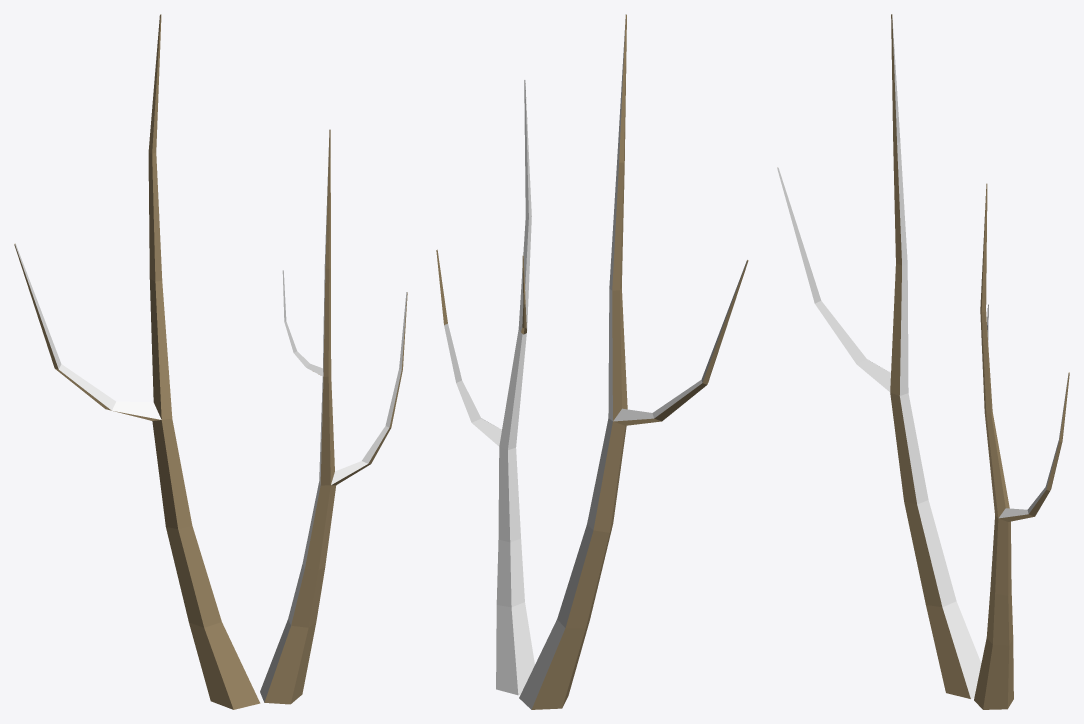
File: Random_Tree_NoLeaves_m_Snow_01.fbx
The picture shows the model from 3 angles, left to right: view 1: azimuth 30°, elevation 25°; view 2: azimuth 150°, elevation 25°; view 3: azimuth 330°, elevation 25°; orthographic projection. The views are drawn at different scales.
Visible parts, largest first — view 1: Random_Tree_NoLeaves_m_Snow_01; view 2: Random_Tree_NoLeaves_m_Snow_01; view 3: Random_Tree_NoLeaves_m_Snow_01.
Part boxes in pixels (box(x1,y1,x2,y2)): Random_Tree_NoLeaves_m_Snow_01: box(14, 14, 407, 709); Random_Tree_NoLeaves_m_Snow_01: box(436, 14, 748, 709); Random_Tree_NoLeaves_m_Snow_01: box(777, 14, 1069, 709).
Bounding box in the file's own units: 469 × 896 × 121.
